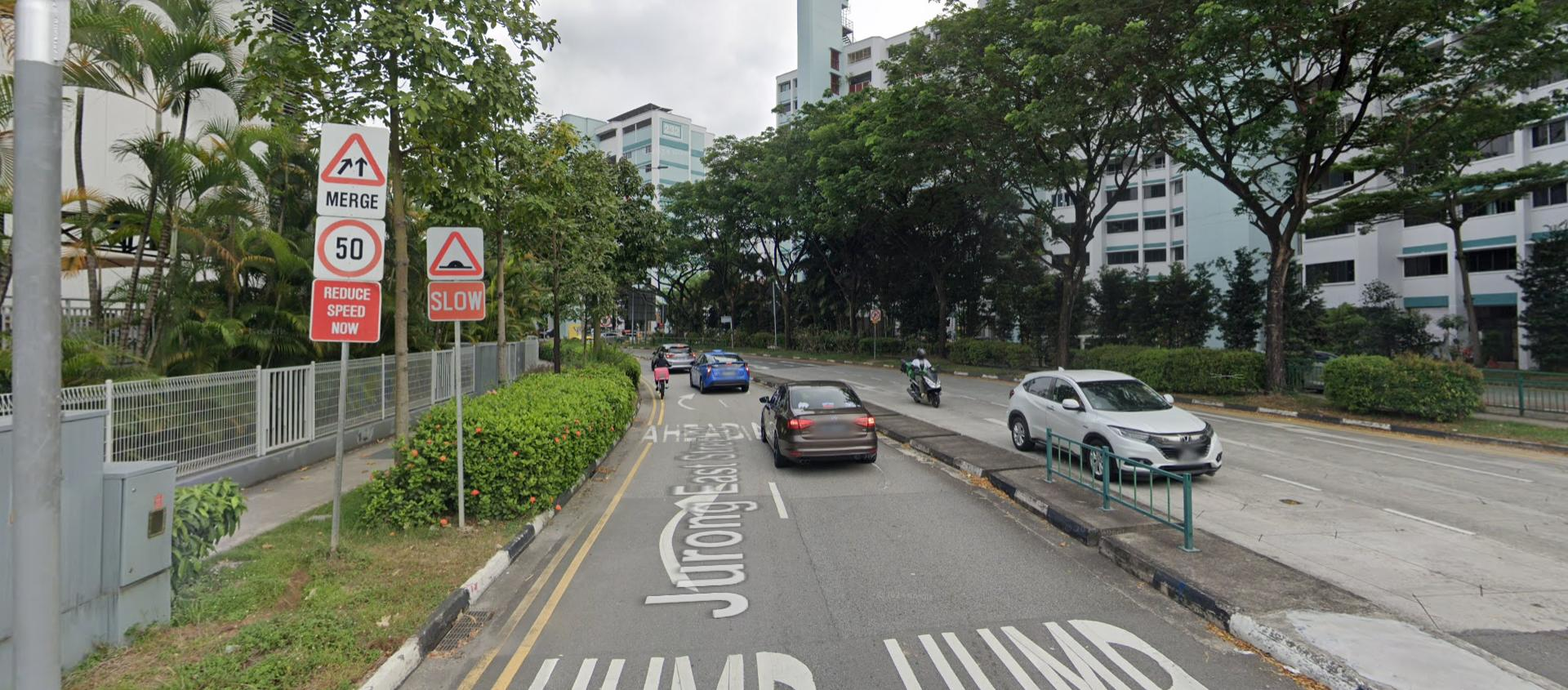defect: (430, 610, 497, 659)
